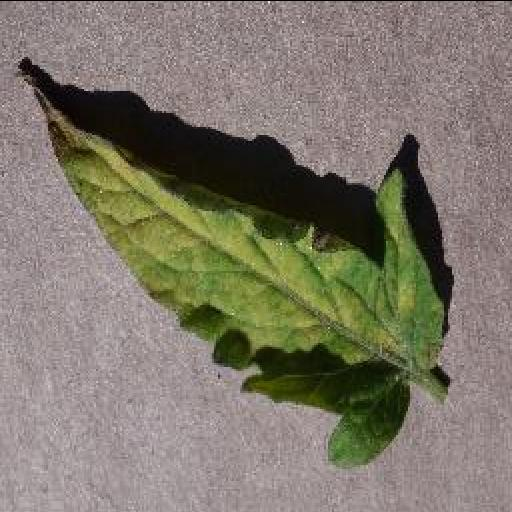disease_tomato: (14, 62, 446, 464)
